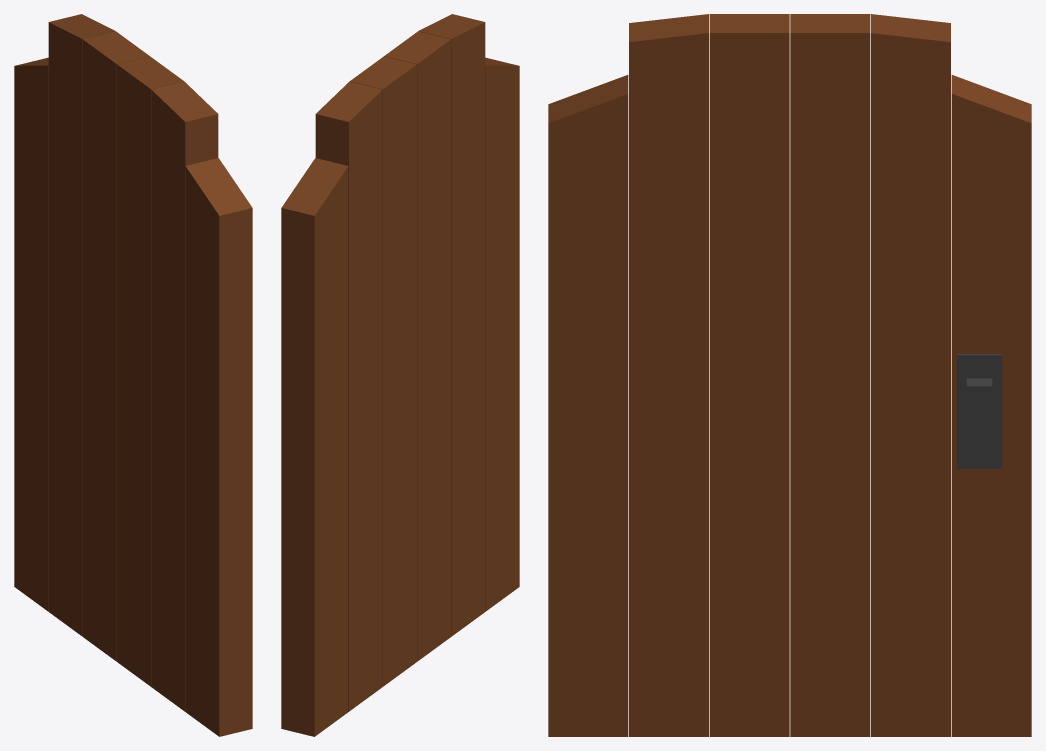
The model's file is dungeon_modules_glb_door_part_2_.glb.
3 renders of one model, left to right at view 1: azimuth 30°, elevation 25°; view 2: azimuth 150°, elevation 25°; view 3: azimuth 270°, elevation 25°, orthographic. The views are drawn at different scales.
Parts seen in each view (by area): view 1: Cube.002; view 2: Cube.002; view 3: Cube.002.
Boxes of the visible parts, <box> form: Cube.002: <box>14,14,252,736</box>; Cube.002: <box>281,14,519,736</box>; Cube.002: <box>548,14,1031,736</box>.
Size of the model in its own units: 0.0997 by 1.14 by 0.7092.
1 material, 1 textured.
